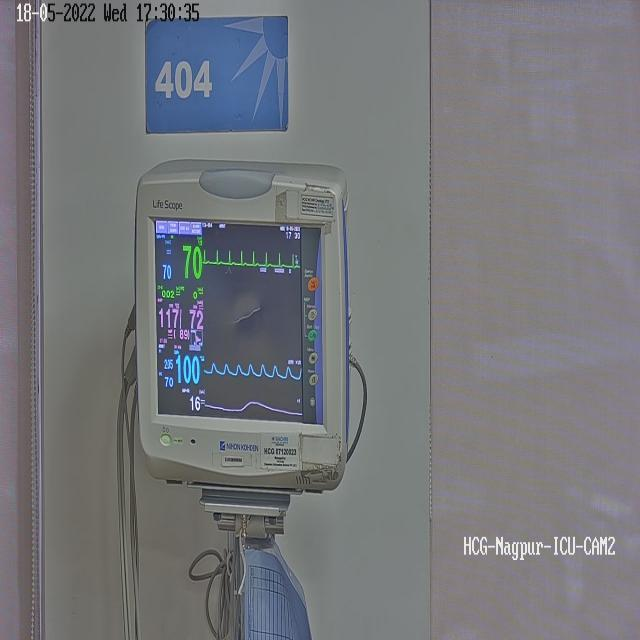Monitor: (132, 157, 348, 566)
